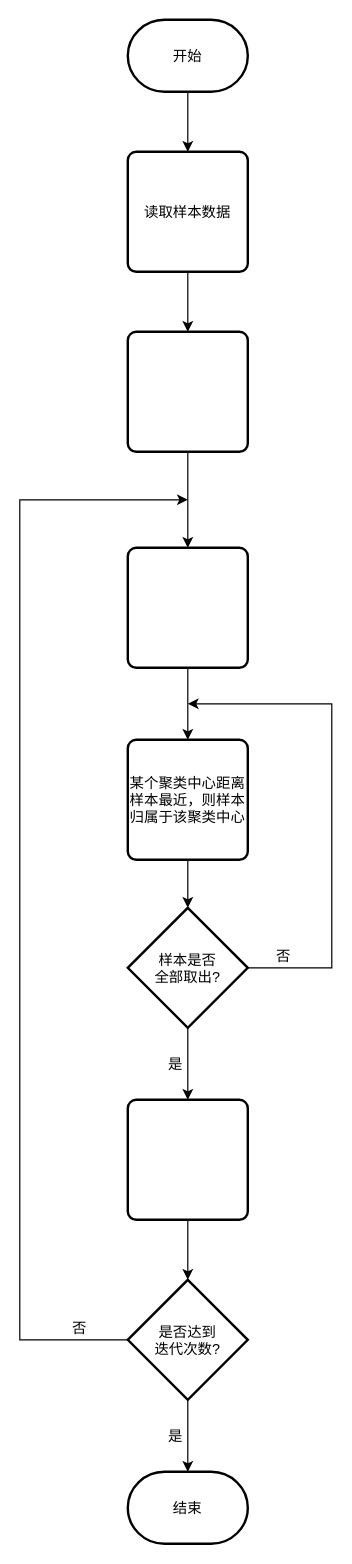
Image size: 352x1564. Some labels were removed from this diagram. The shapes that lost their labels are listed below. From the top down, each one's centre as x and y in pixels, then its label:
[187,391]: 随机选取k 个聚类中心点
[187,607]: 取出一个样本并 计算到每个聚类 中心的距离
[187,1159]: 计算每一类样本 的均值，将均值 作为新的聚类中心
